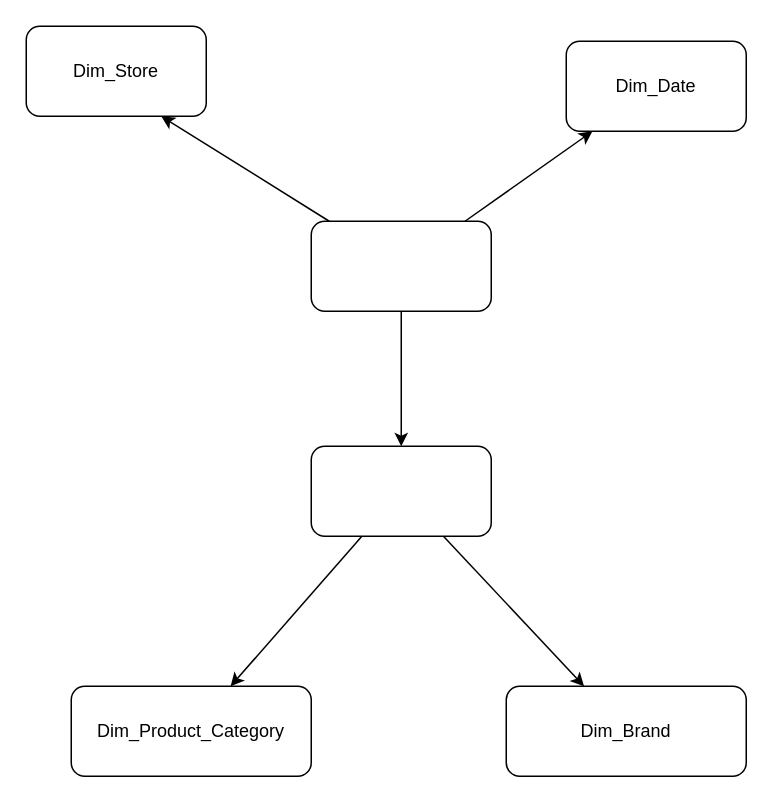
Some shapes in this 773 by 803 pixel diagram are drawn without their labels. Here are the shapes that lost their labels. From the top down, the centre of each, then its label:
At point (400, 265): "Fact_Sale".
At point (400, 490): "Dim_Product".
